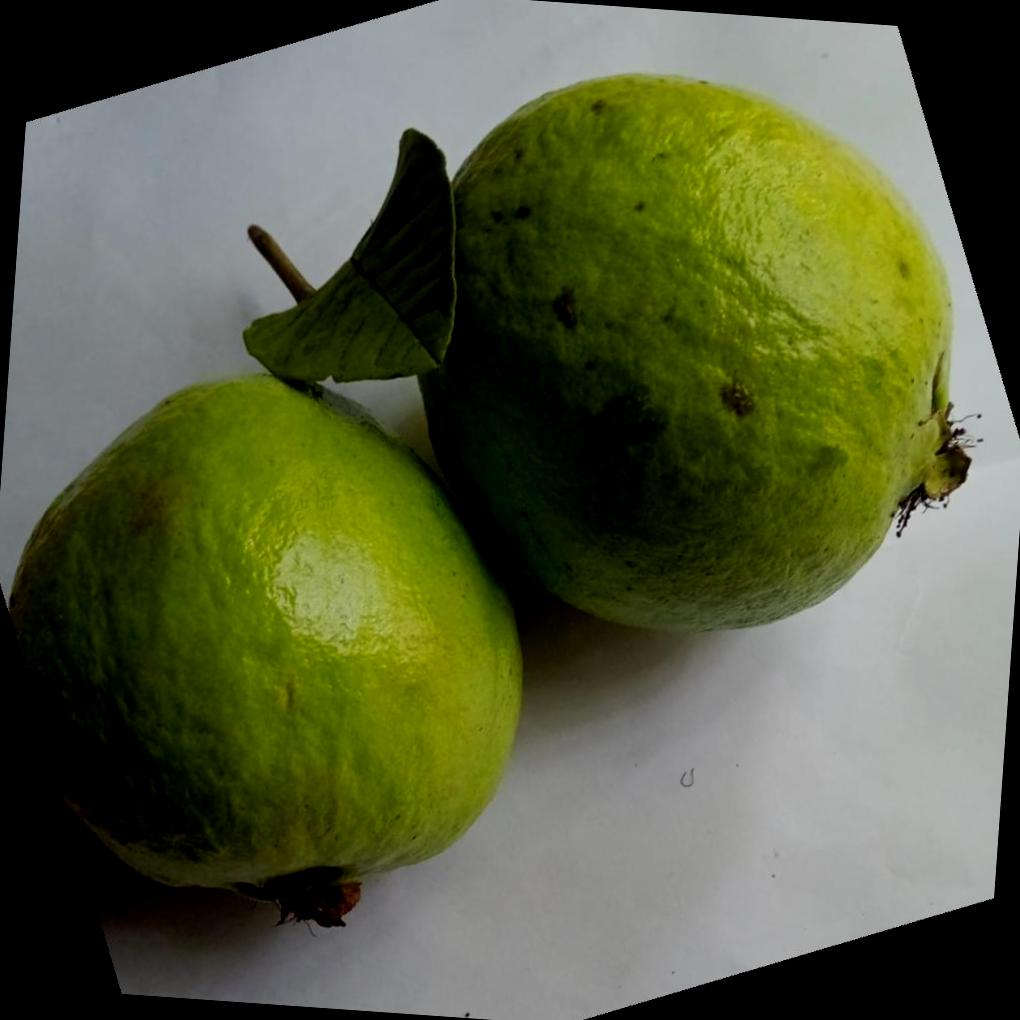FreshGuava: (9, 74, 970, 930)
